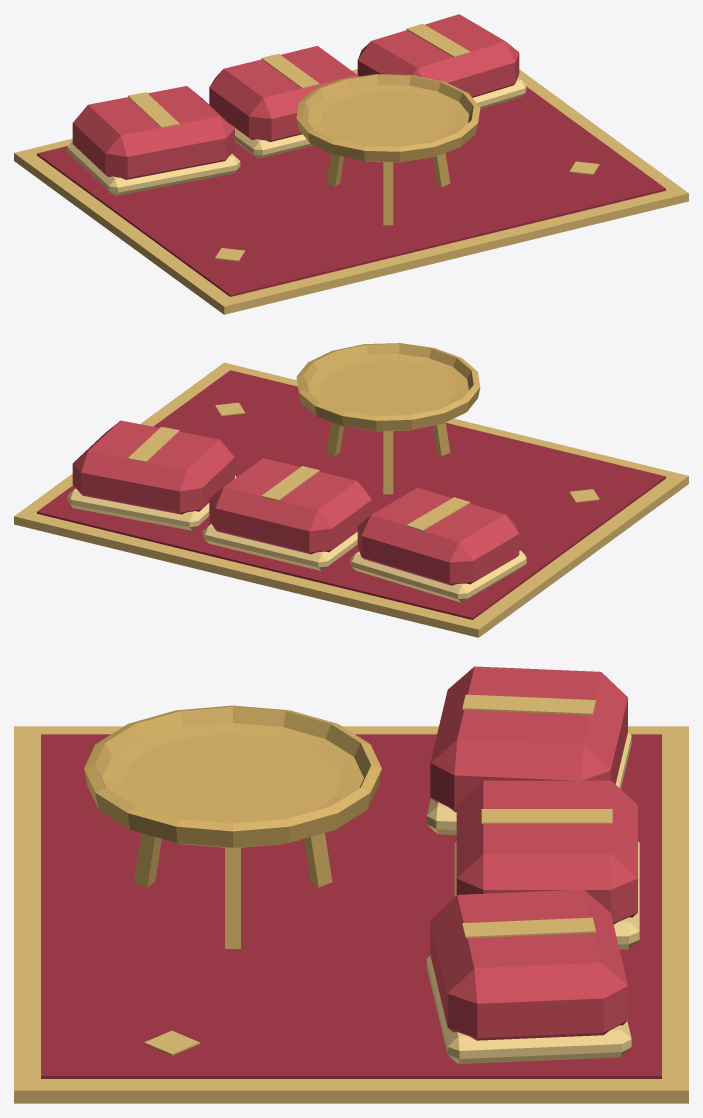
File: majlis.glb
The picture shows the model from 3 angles, top to bottom: view 1: azimuth 30°, elevation 25°; view 2: azimuth 150°, elevation 25°; view 3: azimuth 270°, elevation 25°; orthographic projection. The views are drawn at different scales.
Parts seen in each view (by area): view 1: majlis; view 2: majlis; view 3: majlis.
Boxes of the visible parts, x1=… form: majlis: x1=14, y1=14, x2=688, y2=314; majlis: x1=14, y1=343, x2=688, y2=637; majlis: x1=14, y1=666, x2=688, y2=1103.
Size of the model in its own units: 0.48 by 0.096 by 0.376.
